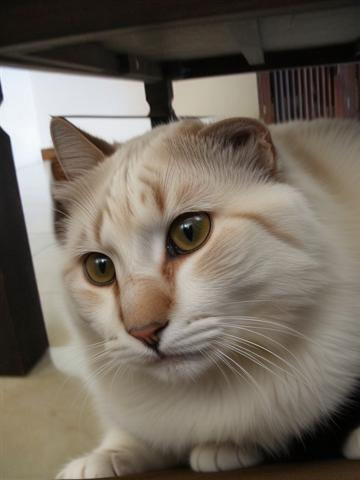cat: (49, 115, 360, 480)
